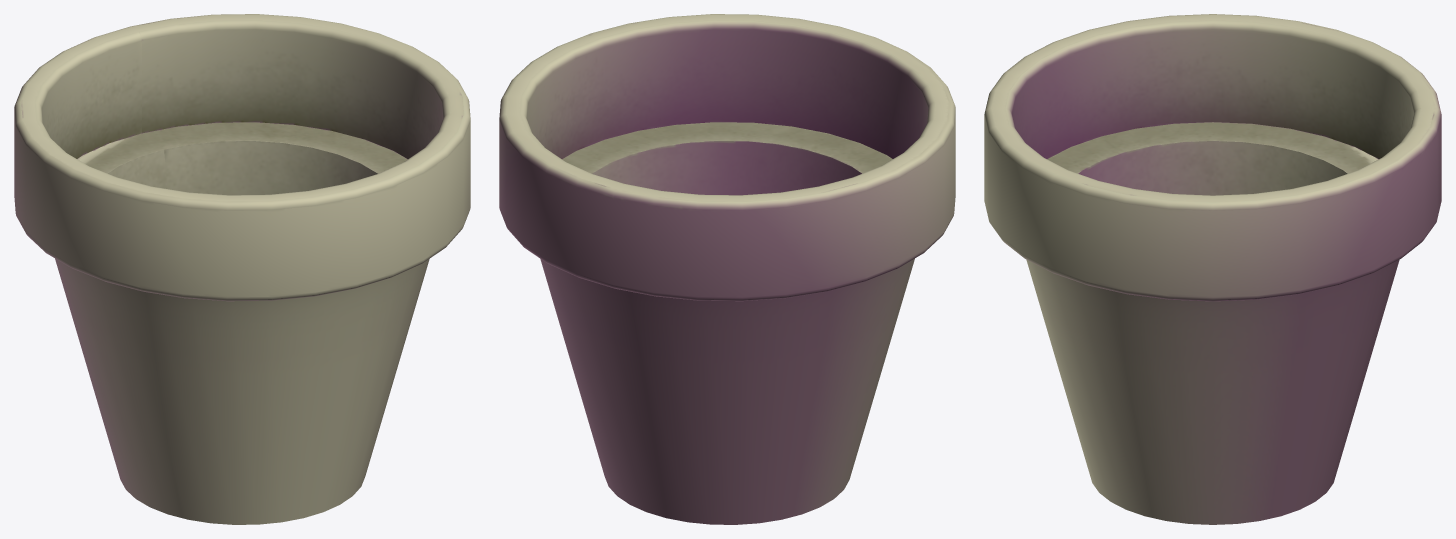
File: Floor Pot_02.fbx
The picture shows the model from 3 angles, left to right: view 1: azimuth 30°, elevation 25°; view 2: azimuth 150°, elevation 25°; view 3: azimuth 270°, elevation 25°; orthographic projection.
Parts seen in each view (by area): view 1: Floor Pot_02; view 2: Floor Pot_02; view 3: Floor Pot_02.
Boxes of the visible parts, x1,y1,x2,y2 form: Floor Pot_02: (14,14,470,524); Floor Pot_02: (499,14,955,524); Floor Pot_02: (984,14,1441,524).
Bounding box in the file's own units: 25 × 22 × 25.
